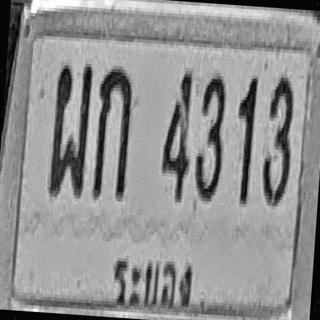A01: (92, 63, 134, 200)
A28: (48, 60, 93, 197)
N01: (232, 74, 258, 204)
N03: (260, 73, 296, 207), (193, 72, 228, 202)
N04: (159, 68, 195, 201)
P53: (105, 235, 198, 320)
